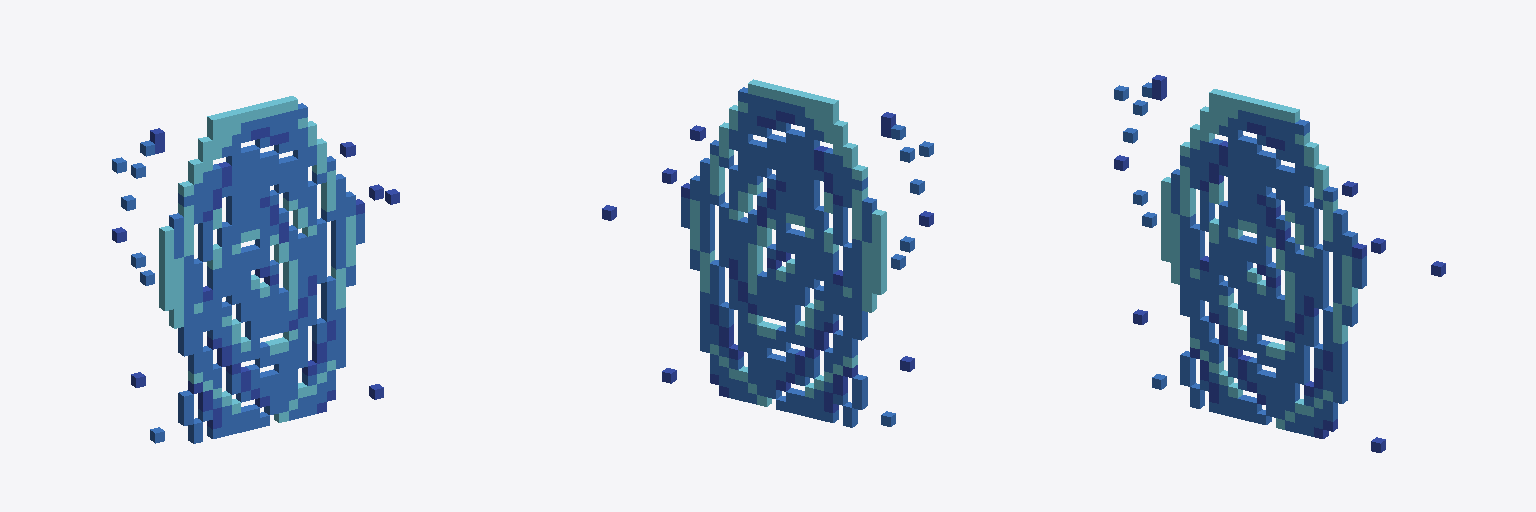
3 renders of one model, left to right at view 1: azimuth 30°, elevation 25°; view 2: azimuth 150°, elevation 25°; view 3: azimuth 330°, elevation 25°, orthographic.
Parts seen in each view (by area): view 1: object 1; view 2: object 1; view 3: object 1.
Boxes of the visible parts, box(x1,y1,x2,y2) form: object 1: box(112, 96, 399, 443); object 1: box(602, 79, 933, 427); object 1: box(1114, 75, 1445, 452).
Bounding box in the file's own units: 3.2 × 3.2 × 0.5.
1 materials, 1 textured.